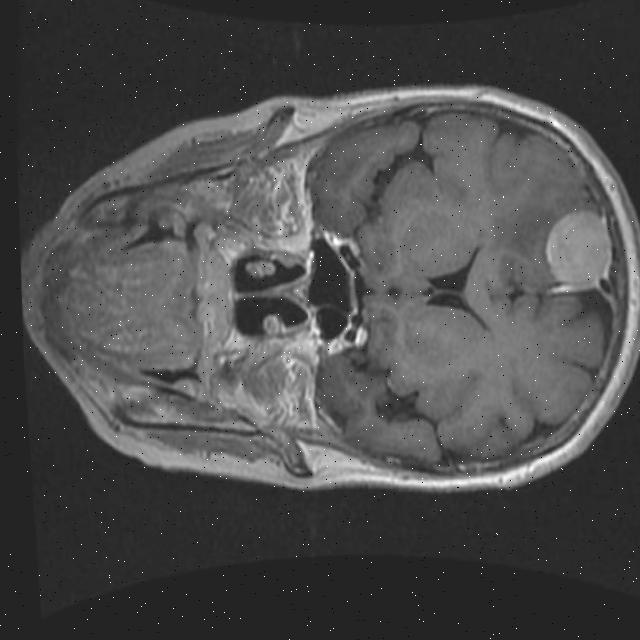Meningioma: (536, 205, 617, 295)
